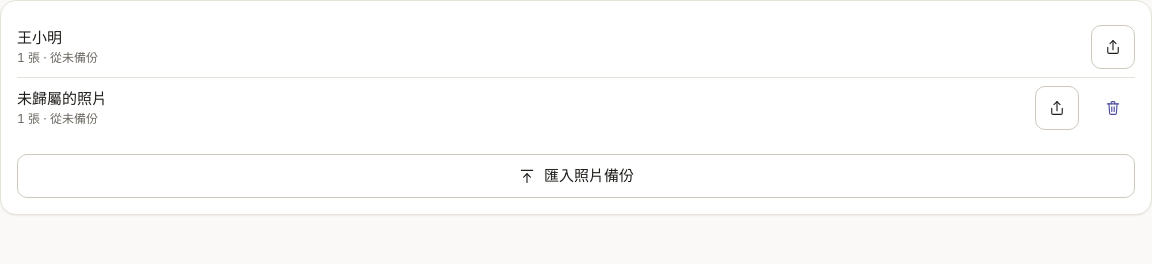
Scenario: 照片備份區 › 未歸屬的照片可以單獨匯出（Happy Path）
Expected: the text "未歸屬的照片" is shown, [17,89,107,108]
Expected: the list item "未歸屬的照片" shows "1 張", [17,77,1135,138]
Click the button named "匯出未歸屬的照片備份" at (1057, 108), box [1035,86,1079,130]
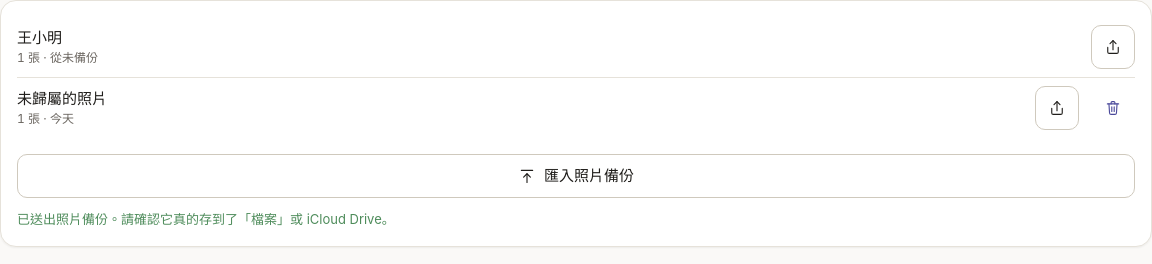
Now the text "已送出照片備份。請確認它真的存到了「檔案」或 iCloud Drive。" is shown, box [17,211,395,227]
